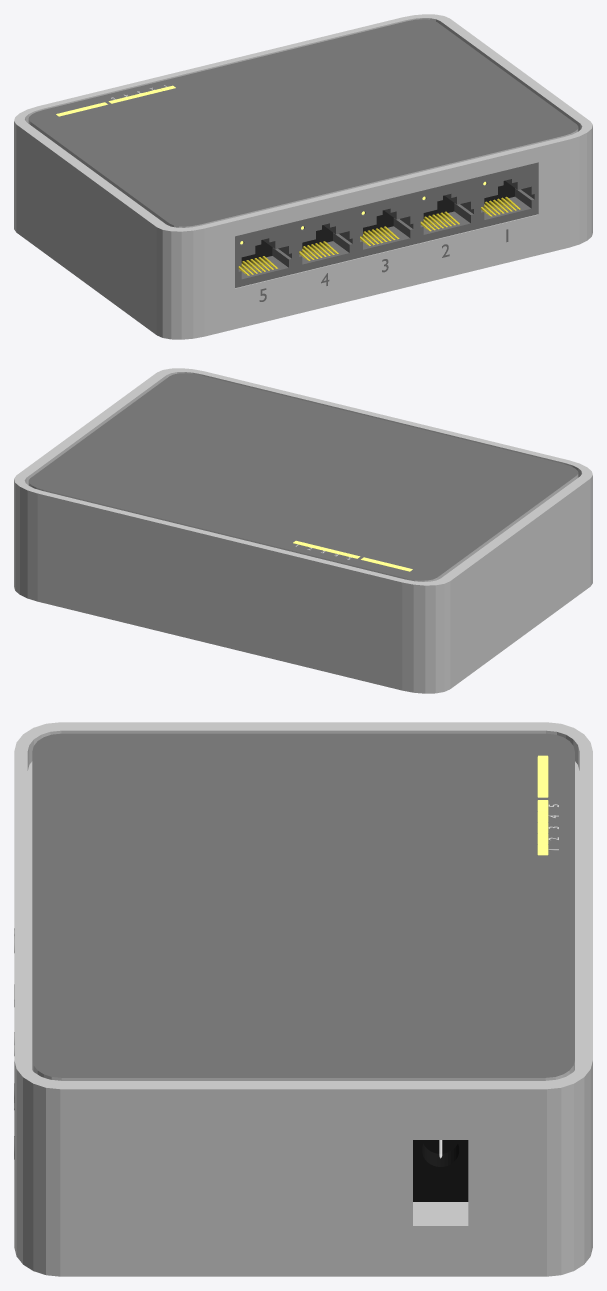
File: Network_Switch.fbx
The picture shows the model from 3 angles, top to bottom: view 1: azimuth 30°, elevation 25°; view 2: azimuth 150°, elevation 25°; view 3: azimuth 270°, elevation 25°; orthographic projection. The views are drawn at different scales.
Parts seen in each view (by area): view 1: Plane.005, Plane.009, Plane.011; view 2: Plane.005; view 3: Plane.005.
Part boxes in pixels (x1,y1,x2,y2): Plane.005: [14, 14, 592, 339]; Plane.009: [204, 139, 569, 336]; Plane.011: [238, 196, 522, 276]; Plane.005: [14, 368, 592, 693]; Plane.005: [14, 722, 592, 1276].
Size of the model in its own units: 100 by 24.02 by 66.98.
